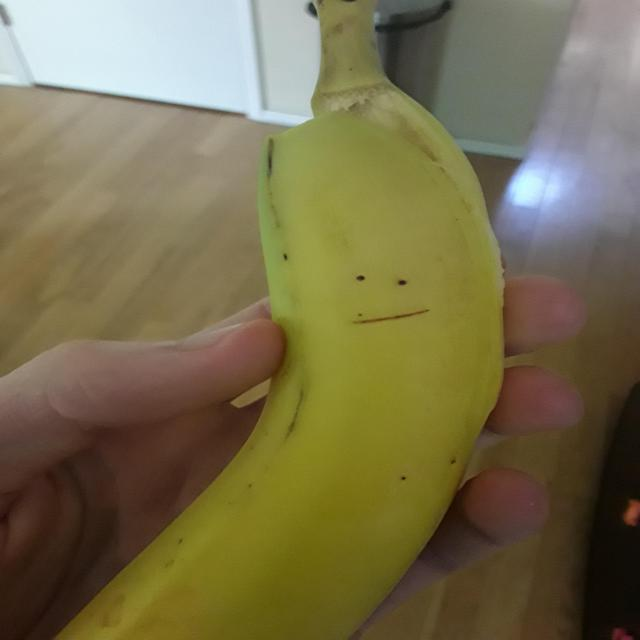Banana: (65, 0, 517, 640)
